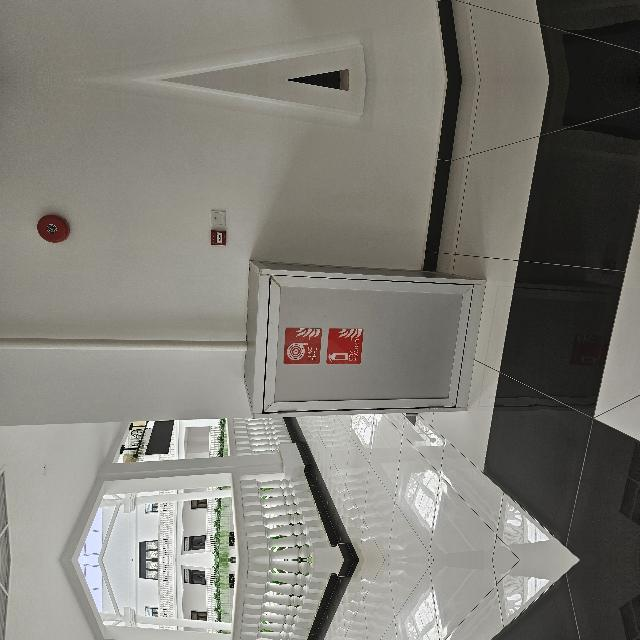obstacle: (142, 322, 300, 566), (142, 554, 300, 640)
